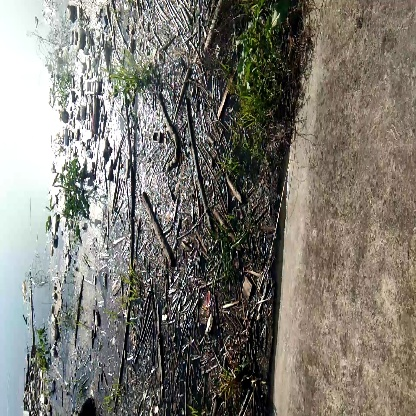branch: (185, 99, 215, 233)
